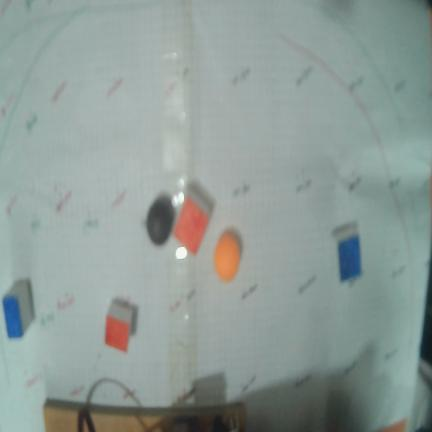circle_blue: (147, 196, 174, 244)
circle_orange: (214, 228, 242, 282)
rectangle_blue: (4, 297, 22, 338)
rectangle_orange: (106, 314, 132, 353)
square_blue: (338, 235, 361, 281)
square_orange: (173, 195, 209, 254)
